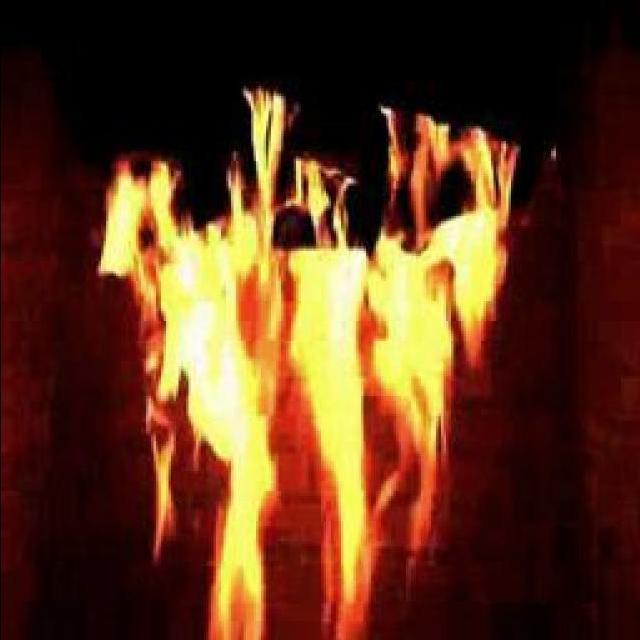Fire: (104, 158, 441, 583)
